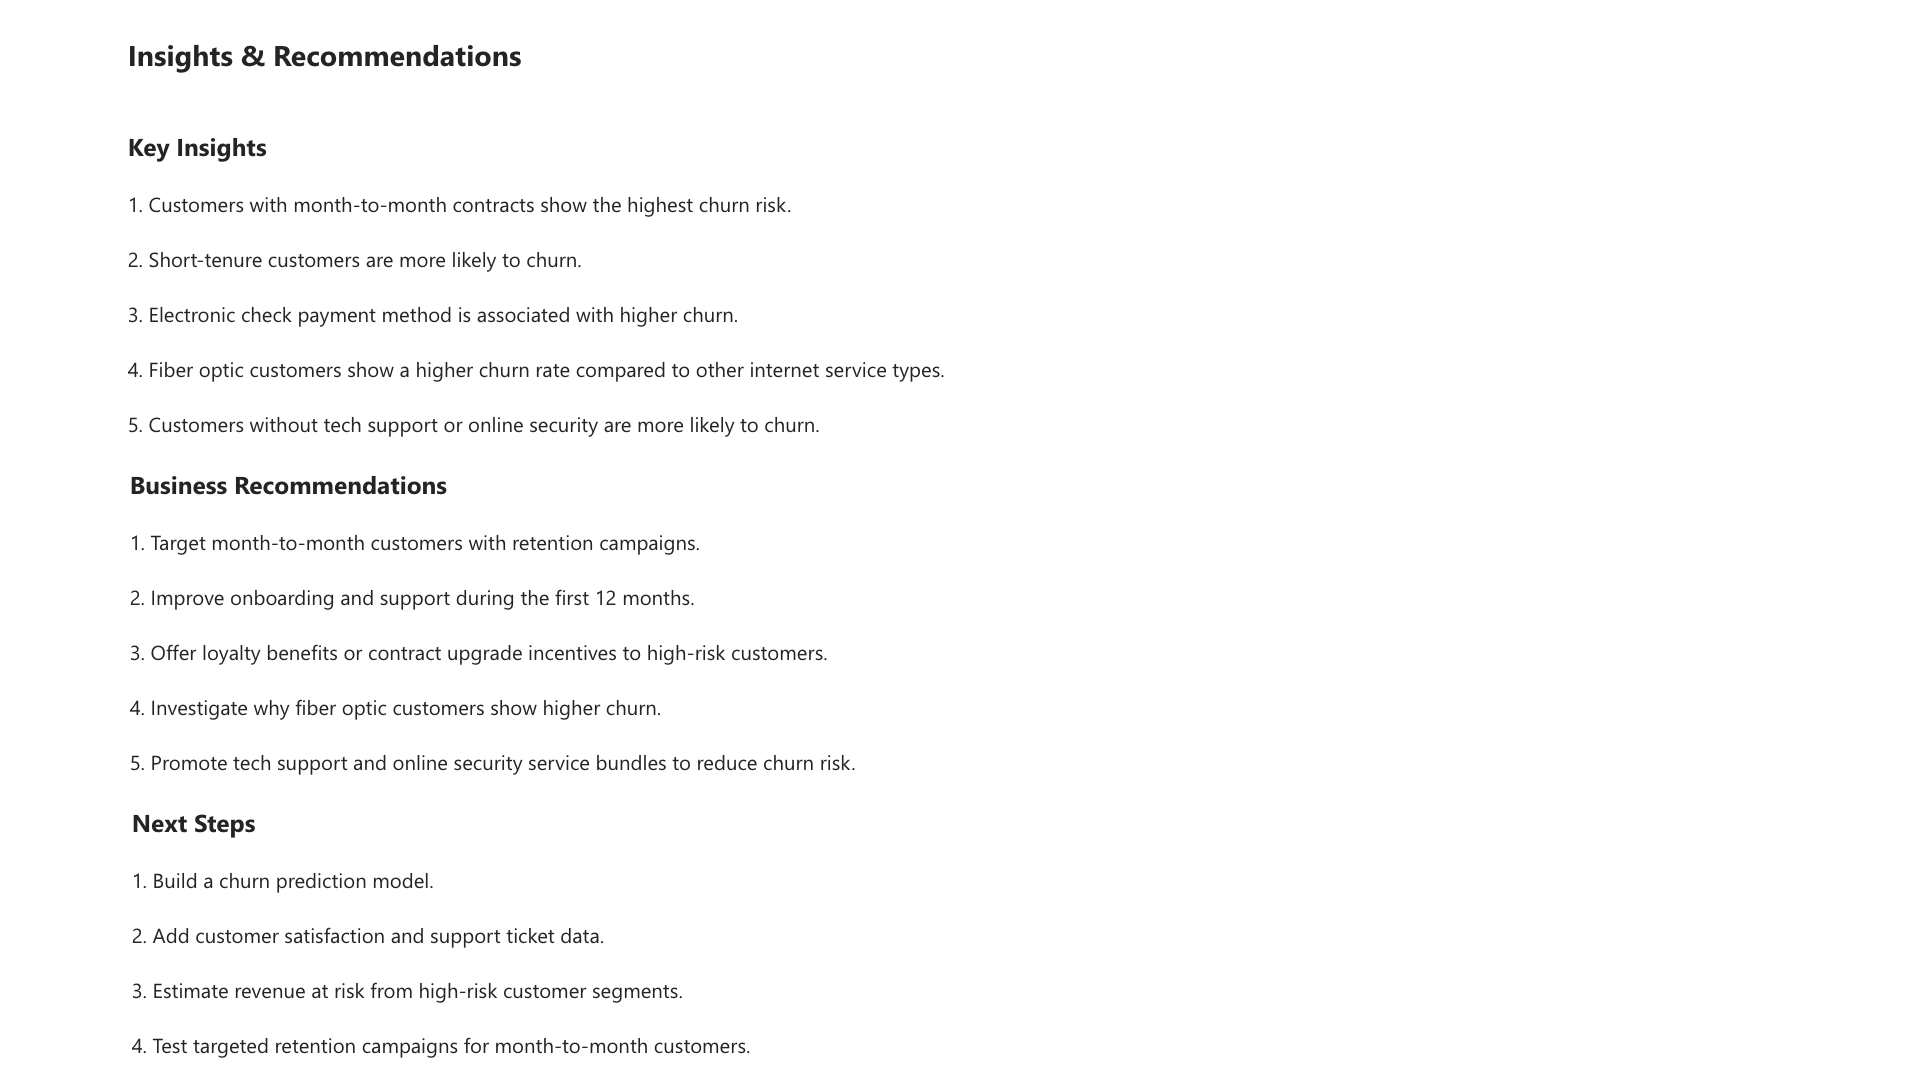

The dashboard page shown, as its layout file describes it:
{"tool":"powerbi","page":{"name":"Insights & Recommendations","canvas":[1280,720],"ordinal":2},"visuals":[{"type":"textbox","box":[87.8,27.5,930.2,48.5],"z":0},{"type":"textbox","box":[87.8,89.1,1049.4,221.4],"z":1},{"type":"textbox","box":[89.1,310.5,1049.4,221.4],"z":2},{"type":"textbox","box":[90.4,531.9,1049.4,178.2],"z":3}]}

Visuals, with their boxes in screenshot pixels (x1, y1, x2, y2), scaled from the page's 1280x720 canvas onto the 1930x1080 screenshot:
textbox: crop(132, 41, 1535, 114)
textbox: crop(132, 134, 1715, 466)
textbox: crop(134, 466, 1717, 798)
textbox: crop(136, 798, 1719, 1065)
